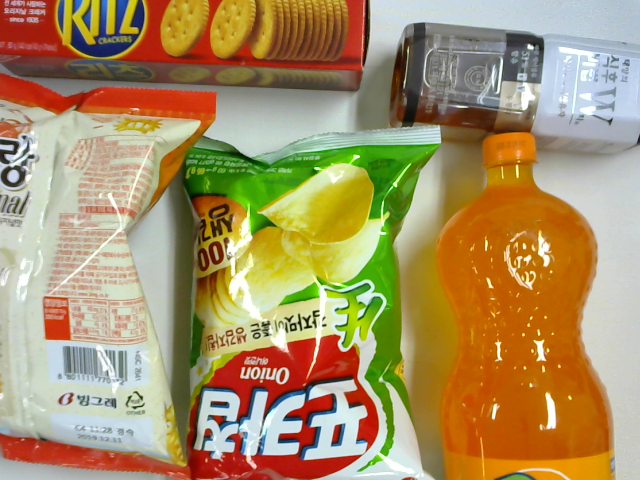Crabrang: (1, 72, 215, 480)
Hwanta_Orange_1.5L: (435, 131, 614, 480)
Pocachip_Onion: (183, 121, 441, 480)
Post-meal_recipe_W_tea_500ml: (389, 21, 640, 152)
Ritz_Cracker: (1, 1, 371, 92)
